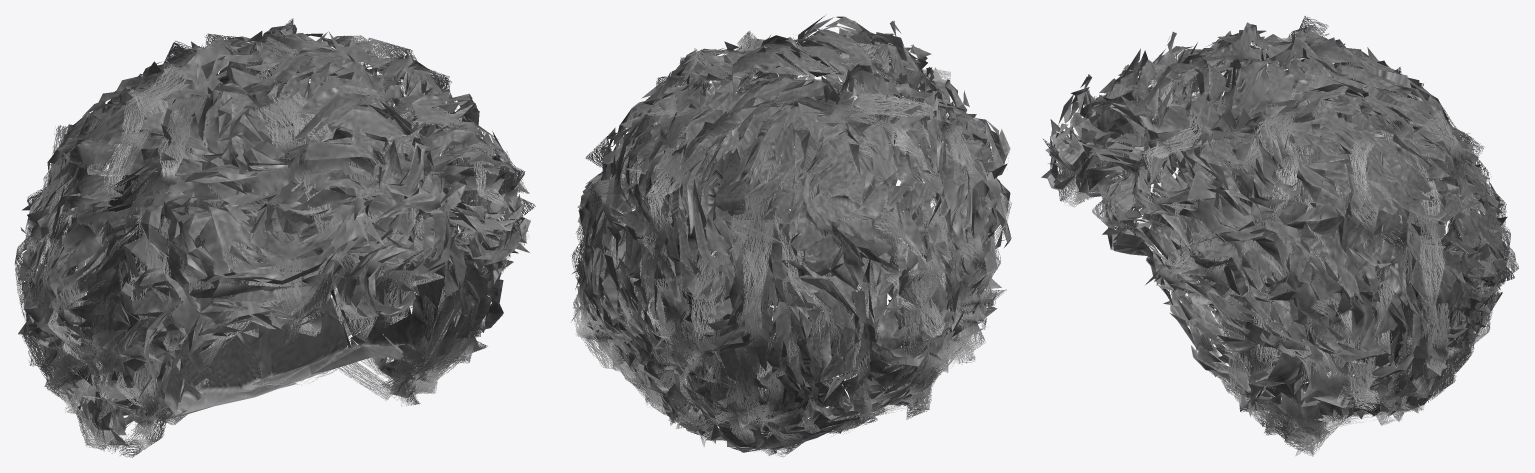
The model's file is hair_curls.glb.
3 renders of one model, left to right at view 1: azimuth 30°, elevation 25°; view 2: azimuth 150°, elevation 25°; view 3: azimuth 270°, elevation 25°, orthographic. The views are drawn at different scales.
Parts seen in each view (by area): view 1: Mesh_0, haircards; view 2: Mesh_0, haircards; view 3: Mesh_0, haircards.
Boxes of the visible parts, x1,y1,x2,y2 form: Mesh_0: [17, 23, 530, 445]; haircards: [14, 18, 535, 457]; Mesh_0: [571, 14, 1011, 452]; haircards: [571, 31, 1011, 457]; Mesh_0: [1041, 22, 1507, 445]; haircards: [1042, 16, 1518, 456].
Size of the model in its own units: 0.2103 by 0.1833 by 0.2242.
Materials: 2 (2 with a texture image).
